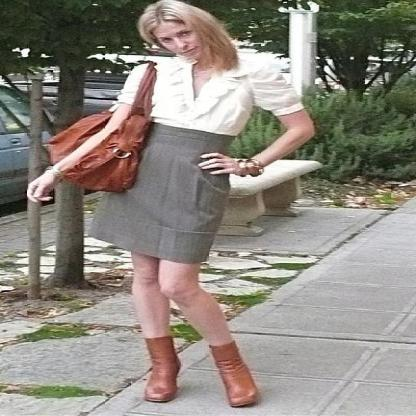bag: (50, 75, 161, 197)
shirt: (120, 49, 304, 135)
shoe: (142, 333, 262, 407)
skirt: (87, 125, 236, 265)
